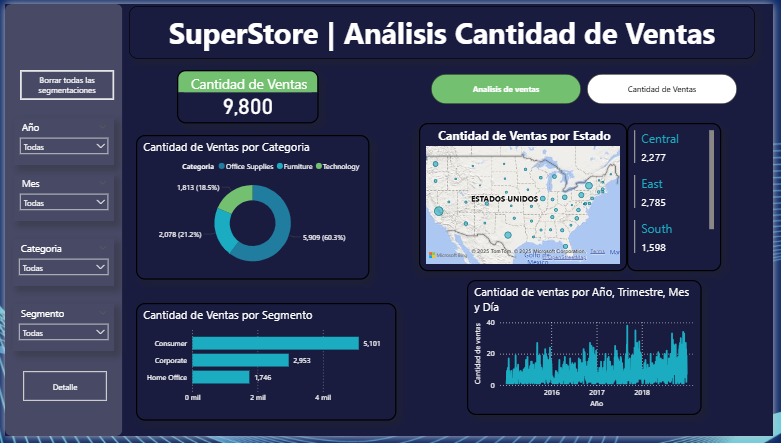

What the dashboard file says about the page in this screenshot:
{"tool":"powerbi","page":{"name":"Analisis cantidad de ventas","canvas":[1280,720],"ordinal":1},"visuals":[{"type":"shape","box":[0,0,195.7,720],"z":0},{"type":"donutChart","title":"Cantidad de Ventas por Categoria","fields":{"Category":["Dim_Product.Category"],"Y":["SuperStore.Cantidad de ventas"]},"box":[218.8,218.8,388.8,240.8],"z":1000},{"type":"card","title":"Cantidad de Ventas","fields":{"Values":["SuperStore.Cantidad de ventas"]},"box":[286.1,110,236,89.2],"z":2000},{"type":"clusteredBarChart","title":"Cantidad de Ventas por Segmento","fields":{"Category":["SuperStore.Segment"],"Y":["SuperStore.Cantidad de ventas"]},"box":[218.8,498.8,434,195.6],"z":3000},{"type":"map","title":"Cantidad de Ventas por Estado","fields":{"Category":["Dim_Location.State"],"Size":["SuperStore.Cantidad de ventas"]},"box":[689.5,198.1,347.3,246.8],"z":4000,"group":"g1"},{"type":"lineChart","fields":{"Y":["SuperStore.Cantidad de ventas"],"Category":["SuperStore.Order_Date.Variación.Jerarquía de fechas.Año","SuperStore.Order_Date.Variación.Jerarquía de fechas.Trimestre","SuperStore.Order_Date.Variación.Jerarquía de fechas.Mes","SuperStore.Order_Date.Variación.Jerarquía de fechas.Día"]},"box":[770.2,459.7,391.2,224.9],"z":4000},{"type":"textbox","box":[206.2,3.7,1043.3,87.9],"z":5000},{"type":"multiRowCard","fields":{"Values":["Dim_Location.Region","SuperStore.Cantidad de ventas"]},"box":[1036.8,198.1,156.9,246.8],"z":6000,"group":"g1"},{"type":"slicer","fields":{"Values":["SuperStore.Order_Date.Variación.Jerarquía de fechas.Año"]},"box":[14.2,190.4,167.3,78],"z":6000},{"type":"slicer","fields":{"Values":["SuperStore.Order_Date.Variación.Jerarquía de fechas.Mes"]},"box":[14.2,282.5,167.3,78],"z":7000},{"type":"slicer","fields":{"Values":["Dim_Product.Category"]},"box":[12.8,391.7,168.7,78],"z":8000},{"type":"slicer","title":"Segmento","fields":{"Values":["SuperStore.Segment"]},"box":[12.8,499.4,168.7,78],"z":9000},{"type":"group","id":"g1","title":"Grupo 1","box":[689.5,198.1,503.7,247],"z":10000},{"type":"bookmarkNavigator","box":[710.3,116.1,511,50.1],"z":11000},{"type":"actionButton","box":[24.3,110,157.1,50],"z":12000},{"type":"pageNavigator","box":[30,611.4,140,50],"z":13000}]}

Visuals, with their boxes in screenshot pixels (x1, y1, x2, y2), scaled from the page's 1280x720 canvas onto the 781x443 screenshot:
shape: (0, 0, 119, 442)
"Cantidad de Ventas por Categoria" donutChart: (134, 135, 371, 283)
"Cantidad de Ventas" card: (175, 68, 319, 123)
"Cantidad de Ventas por Segmento" clusteredBarChart: (134, 307, 398, 427)
"Cantidad de Ventas por Estado" map: (421, 122, 633, 274)
lineChart - SuperStore.Cantidad de ventas x SuperStore.Order_Date.Variación.Jerarquía de fechas.Año: (470, 283, 709, 421)
textbox: (126, 2, 762, 56)
multiRowCard - Dim_Location.Region x SuperStore.Cantidad de ventas: (633, 122, 728, 274)
slicer - SuperStore.Order_Date.Variación.Jerarquía de fechas.Año: (9, 117, 111, 165)
slicer - SuperStore.Order_Date.Variación.Jerarquía de fechas.Mes: (9, 174, 111, 222)
slicer - Dim_Product.Category: (8, 241, 111, 289)
"Segmento" slicer: (8, 307, 111, 355)
"Grupo 1" group: (421, 122, 728, 274)
bookmarkNavigator: (433, 71, 745, 102)
actionButton: (15, 68, 111, 98)
pageNavigator: (18, 376, 104, 407)
